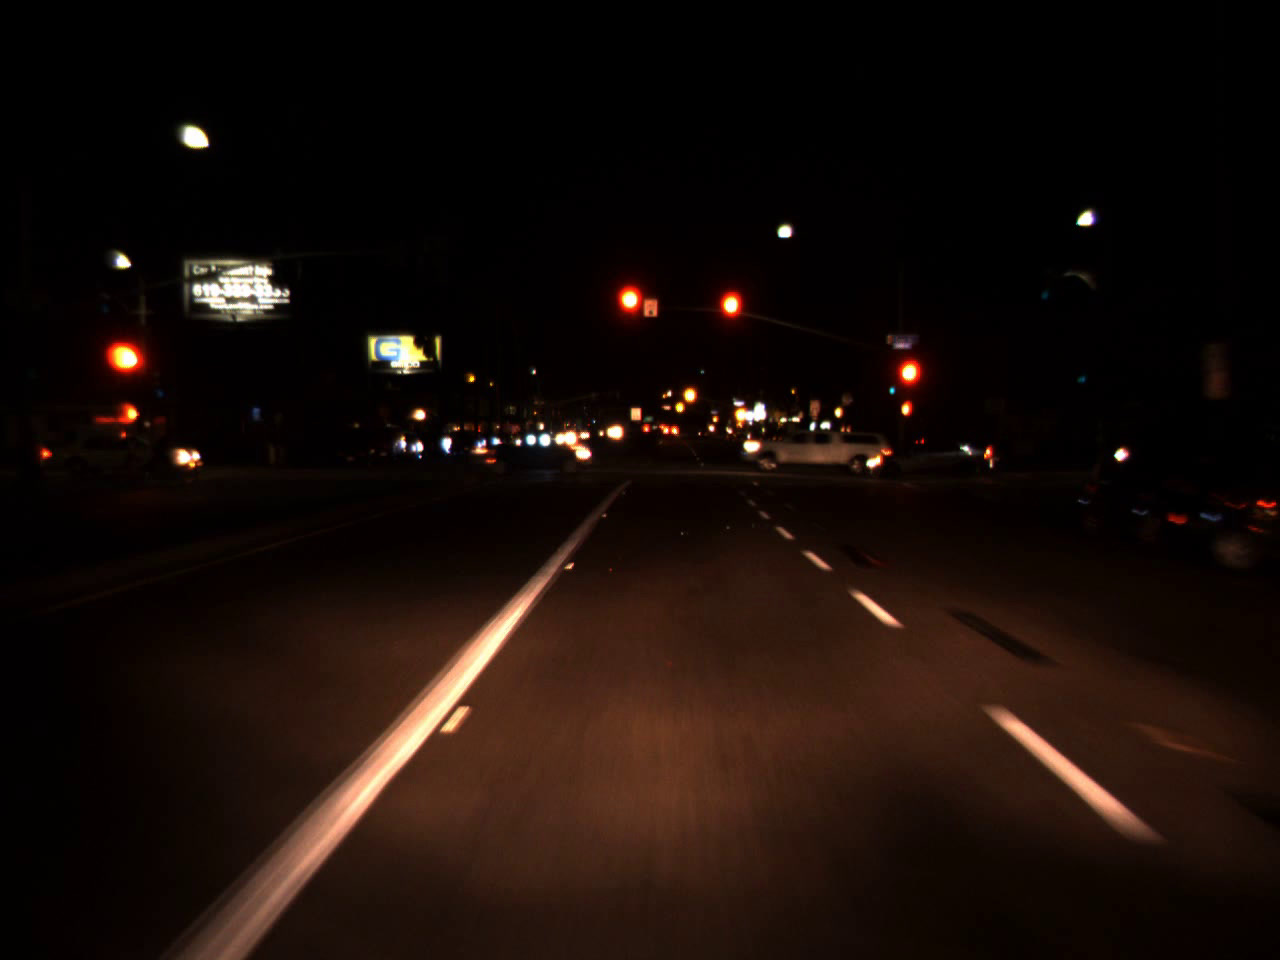stop: (102, 338, 145, 405), (613, 279, 647, 349), (895, 354, 925, 418), (716, 286, 746, 350)
warning: (732, 396, 748, 433), (682, 382, 695, 407), (676, 394, 686, 419)
